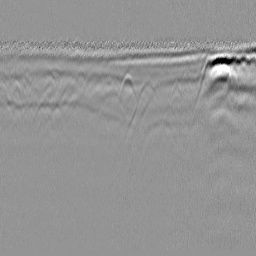cavity: (117, 72, 138, 99)
